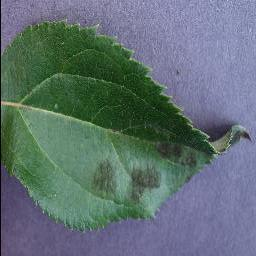apple healthy: (0, 17, 251, 233)
